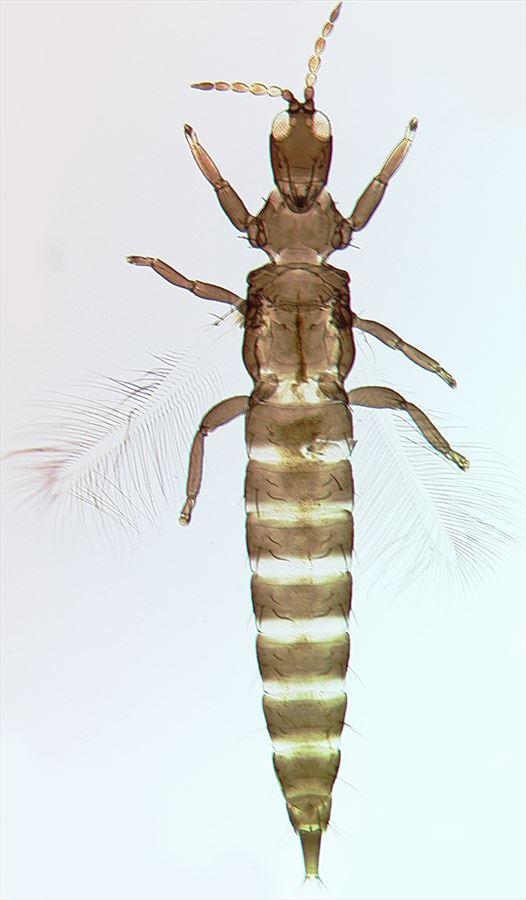Phlaeothripidae: (4, 1, 524, 887)
